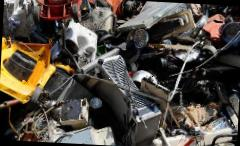electronic: (0, 0, 240, 146), (52, 19, 100, 70)
